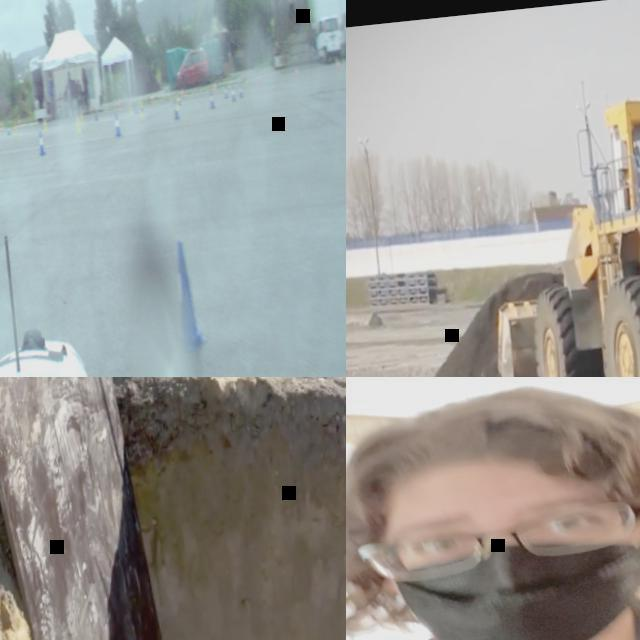machinery: (464, 59, 640, 377)
mask: (387, 530, 640, 640)
no_helmet: (346, 377, 640, 522)
no_vest: (346, 582, 640, 640)
person: (346, 377, 640, 640), (635, 144, 640, 167)
safety_cone: (166, 238, 210, 354), (38, 128, 48, 156), (172, 98, 182, 120), (114, 112, 123, 136), (208, 86, 217, 110), (140, 98, 148, 120), (230, 82, 238, 102), (238, 80, 246, 100), (76, 115, 83, 134), (176, 94, 182, 109), (336, 56, 342, 70), (224, 84, 230, 98), (213, 80, 220, 92), (294, 64, 300, 77), (257, 71, 263, 84), (130, 102, 136, 115), (94, 108, 100, 121), (180, 86, 187, 97), (135, 100, 140, 114), (81, 111, 86, 125), (44, 118, 49, 132), (150, 93, 156, 104), (14, 124, 19, 136), (178, 93, 182, 106), (8, 124, 12, 136), (0, 130, 2, 150), (18, 116, 22, 125), (0, 120, 4, 128)
